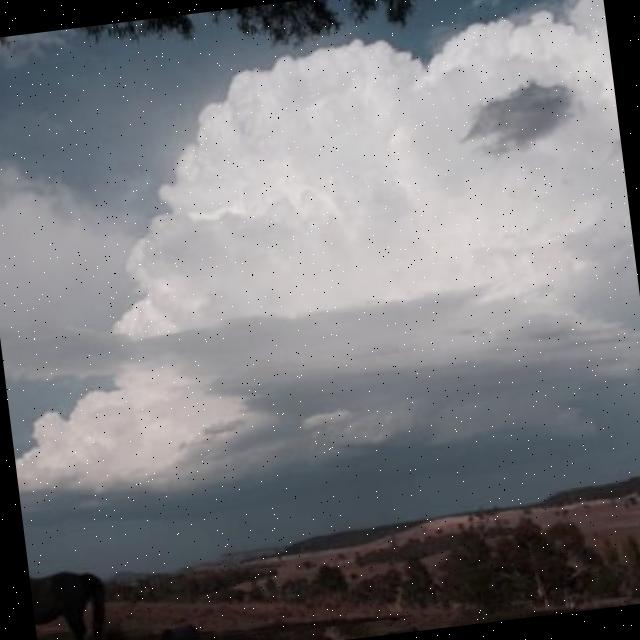Cb: (1, 1, 640, 470)
